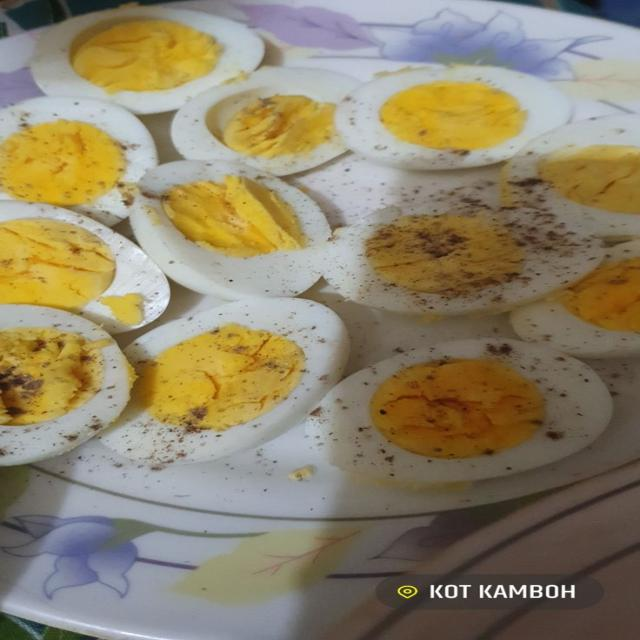eggs: (11, 15, 640, 486)
